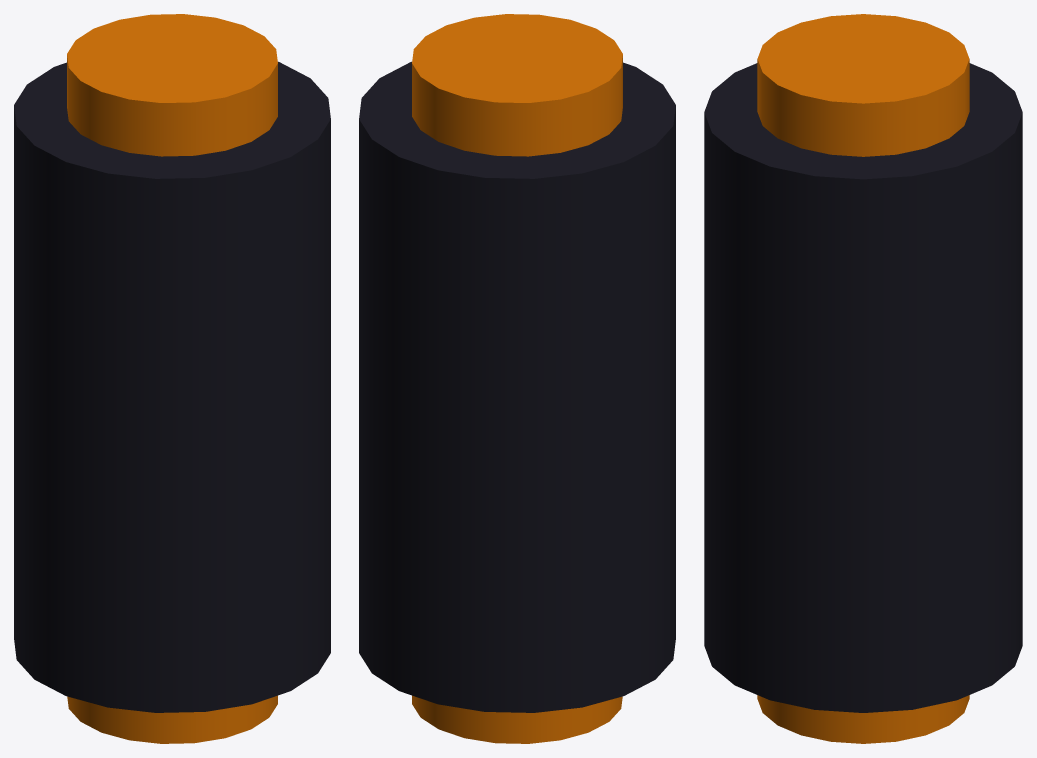
The model's file is Fuel Cell Basic Final.fbx.
3 views of the same model, side by side, from view 1: azimuth 30°, elevation 25°; view 2: azimuth 150°, elevation 25°; view 3: azimuth 270°, elevation 25° (orthographic).
Visible parts, largest first — view 1: pCylinder1, pasted__pCylinder1; view 2: pCylinder1, pasted__pCylinder1; view 3: pCylinder1, pasted__pCylinder1.
Part boxes in pixels (left/top/right/bottom): pCylinder1: left=14, top=61, right=330, bottom=712; pasted__pCylinder1: left=67, top=14, right=277, bottom=743; pCylinder1: left=359, top=61, right=675, bottom=712; pasted__pCylinder1: left=412, top=14, right=622, bottom=743; pCylinder1: left=704, top=63, right=1022, bottom=712; pasted__pCylinder1: left=757, top=14, right=969, bottom=743.
Size of the model in its own units: 0.2364 by 0.5245 by 0.2364.
